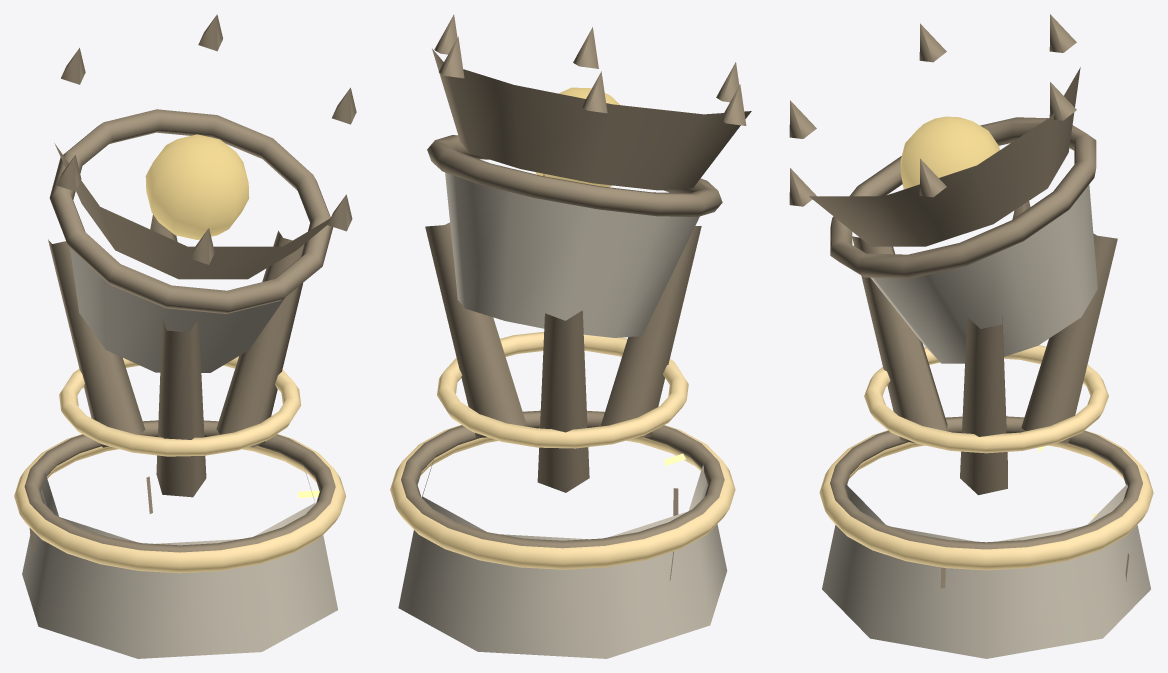
File: tower_mortar_3.glb
3 views of the same model, side by side, from view 1: azimuth 30°, elevation 25°; view 2: azimuth 150°, elevation 25°; view 3: azimuth 270°, elevation 25° (orthographic). The views are drawn at different scales.
Parts seen in each view (by area): view 1: turret, base; view 2: turret, base; view 3: turret, base.
Part boxes in pixels (x1,y1,x2,y2): turret: (48,14,356,497); base: (14,214,345,658); turret: (425,14,751,492); base: (390,174,735,658); turret: (789,14,1117,495); base: (819,201,1153,658).
Bounding box in the file's own units: 2.88 × 4.93 × 3.08.
